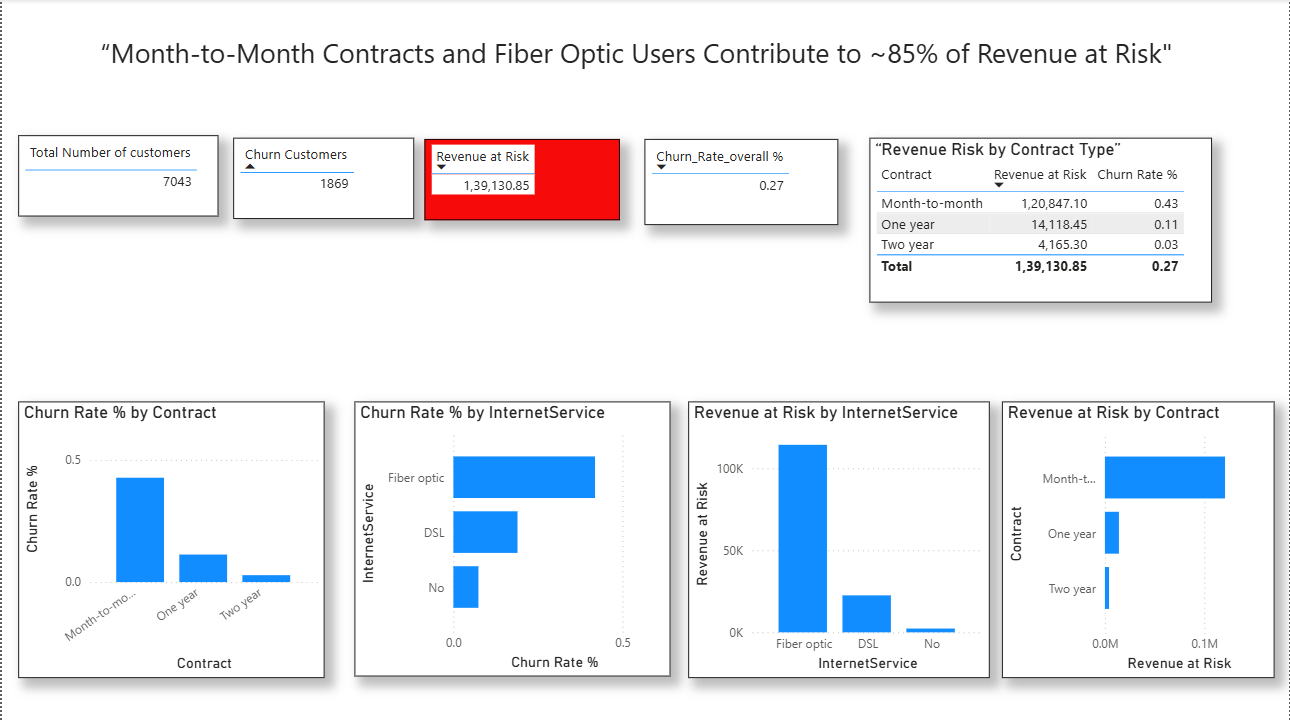

The dashboard page shown, as its layout file describes it:
{"tool":"powerbi","page":{"name":"Executive_Summary","canvas":[1280,720],"ordinal":0},"visuals":[{"type":"tableEx","fields":{"Values":["Telco-Customer-Churn.customerID"]},"box":[16.2,135.6,199,80.9],"z":0},{"type":"clusteredColumnChart","fields":{"Category":["Telco-Customer-Churn.Contract"],"Y":["Telco-Customer-Churn.Churn Rate %"]},"box":[16.2,400.6,304.8,274.9],"z":1000},{"type":"barChart","fields":{"Category":["Telco-Customer-Churn.InternetService"],"Y":["Telco-Customer-Churn.Churn Rate %"]},"box":[350.8,400.6,314.7,273.7],"z":2000},{"type":"tableEx","fields":{"Values":["Telco-Customer-Churn.Total Chrun Customers"]},"box":[230.1,138.1,180.4,80.9],"z":3000},{"type":"tableEx","fields":{"Values":["Telco-Customer-Churn.Revenue_at_risk"]},"box":[420.5,139.3,194.1,80.9],"z":4000},{"type":"clusteredColumnChart","fields":{"Category":["Telco-Customer-Churn.InternetService"],"Y":["Telco-Customer-Churn.Revenue_at_risk"]},"box":[682.9,400.6,299.8,274.9],"z":5000},{"type":"tableEx","title":"   “Revenue Risk by Contract Type”","fields":{"Values":["Telco-Customer-Churn.Contract","Telco-Customer-Churn.Revenue_at_risk","Telco-Customer-Churn.Churn Rate %"]},"box":[863.3,138.1,340.8,164.2],"z":6000},{"type":"textbox","box":[27.4,29.9,1207.9,62.2],"z":7000},{"type":"barChart","fields":{"Category":["Telco-Customer-Churn.Contract"],"Y":["Telco-Customer-Churn.Revenue at Risk"]},"box":[995.2,400.6,271.2,274.9],"z":8000},{"type":"tableEx","fields":{"Values":["Telco-Customer-Churn.Churn_Rate_overall %"]},"box":[639.4,139.3,192.8,85.8],"z":9000}]}

Visuals, with their boxes in screenshot pixels (x1, y1, x2, y2), scaled from the page's 1280x720 canvas onto the 1290x722 screenshot:
tableEx - Telco-Customer-Churn.customerID: <region>16, 136, 217, 217</region>
clusteredColumnChart - Telco-Customer-Churn.Contract x Telco-Customer-Churn.Churn Rate %: <region>16, 402, 324, 677</region>
barChart - Telco-Customer-Churn.InternetService x Telco-Customer-Churn.Churn Rate %: <region>354, 402, 671, 676</region>
tableEx - Telco-Customer-Churn.Total Chrun Customers: <region>232, 138, 414, 220</region>
tableEx - Telco-Customer-Churn.Revenue_at_risk: <region>424, 140, 619, 221</region>
clusteredColumnChart - Telco-Customer-Churn.InternetService x Telco-Customer-Churn.Revenue_at_risk: <region>688, 402, 990, 677</region>
"   “Revenue Risk by Contract Type”" tableEx: <region>870, 138, 1214, 303</region>
textbox: <region>28, 30, 1245, 92</region>
barChart - Telco-Customer-Churn.Contract x Telco-Customer-Churn.Revenue at Risk: <region>1003, 402, 1276, 677</region>
tableEx - Telco-Customer-Churn.Churn_Rate_overall %: <region>644, 140, 839, 226</region>
